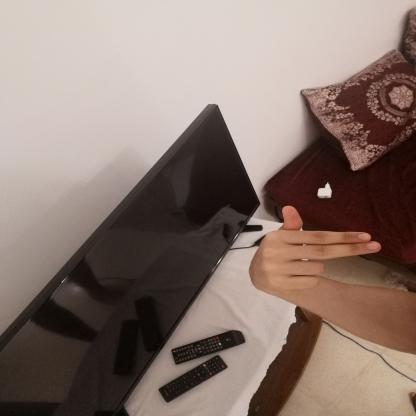GHAYN: (241, 201, 391, 301)
